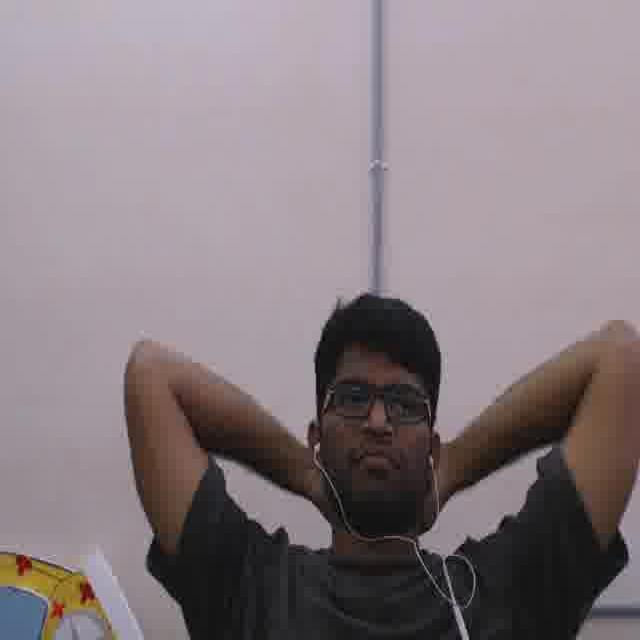Boredom: (324, 346, 427, 506)
